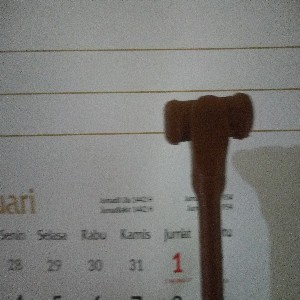palu: (162, 91, 254, 300)
